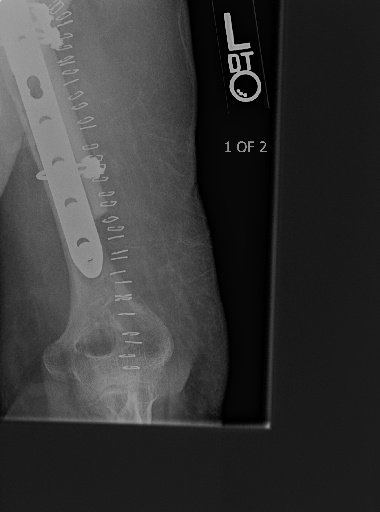implant: (11, 6, 121, 277)
